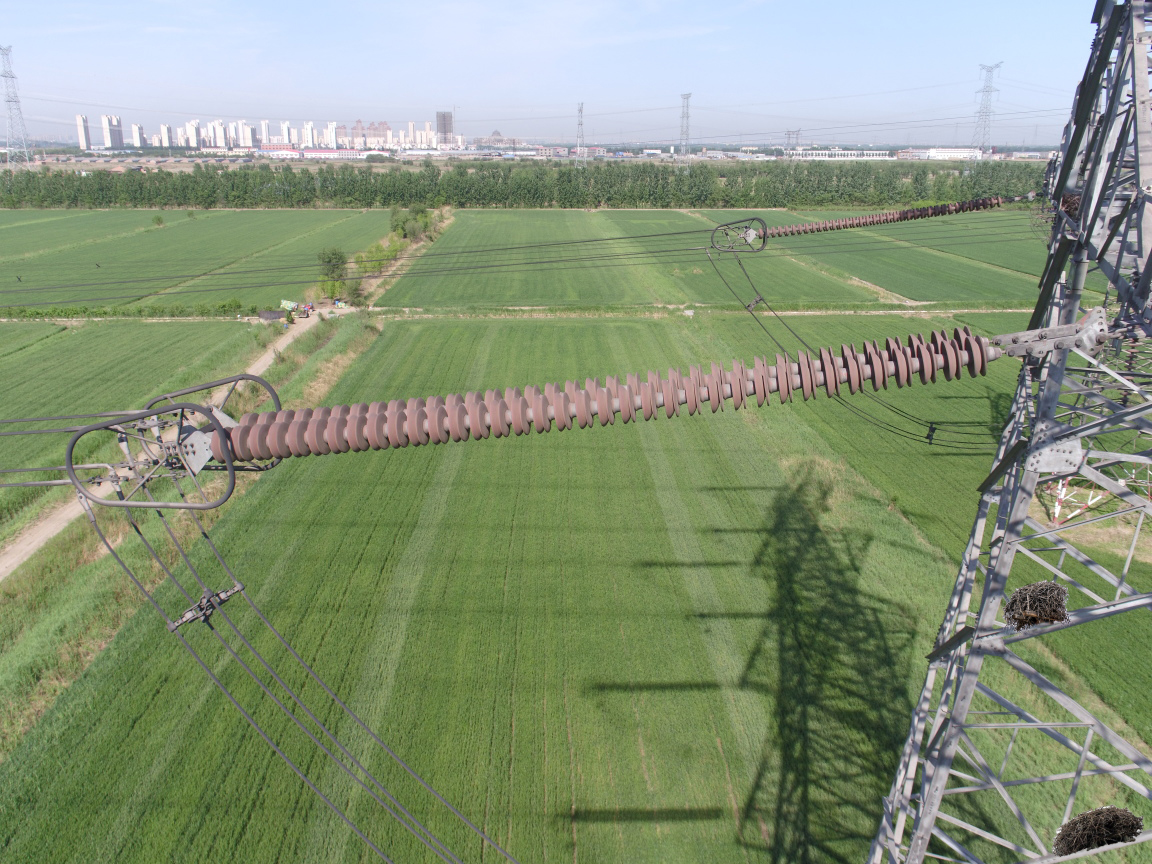nest: (1051, 800, 1145, 862), (1006, 576, 1073, 632)
